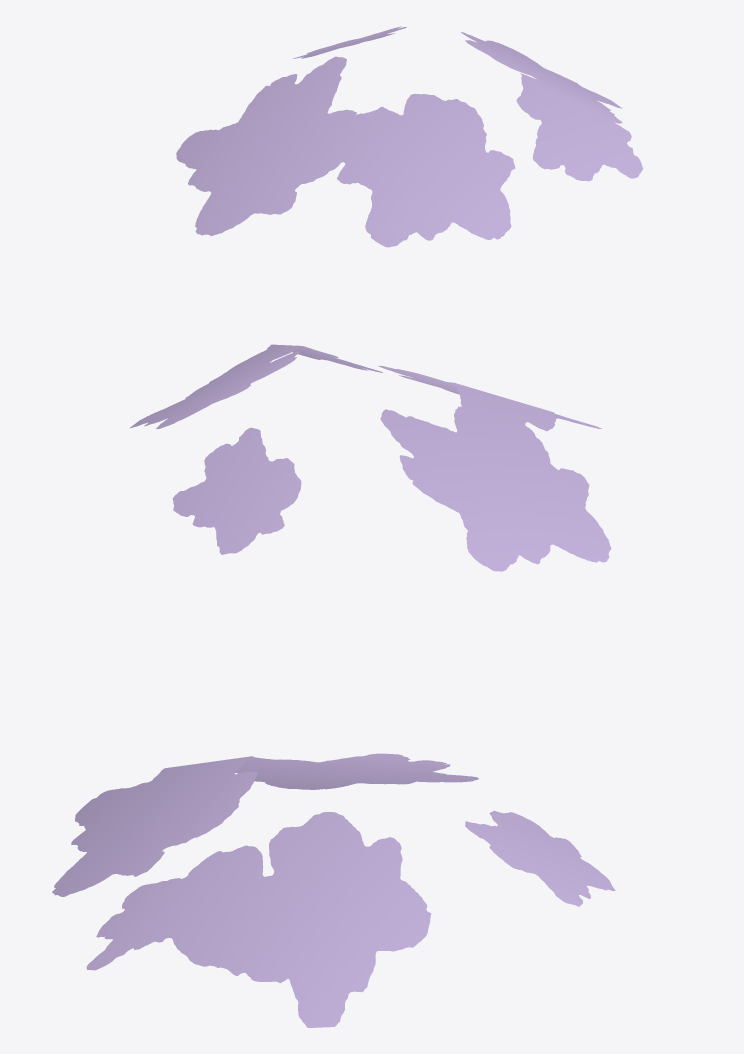
Rendered from SM_flowerpack_B_LOD2.FBX.
The picture shows the model from 3 angles, top to bottom: view 1: azimuth 30°, elevation 25°; view 2: azimuth 150°, elevation 25°; view 3: azimuth 270°, elevation 25°; orthographic projection. The views are drawn at different scales.
Parts seen in each view (by area): view 1: SM_flowerpack_B_LOD2; view 2: SM_flowerpack_B_LOD2; view 3: SM_flowerpack_B_LOD2.
Boxes of the visible parts, <box> form: SM_flowerpack_B_LOD2: <box>176,26,642,247</box>; SM_flowerpack_B_LOD2: <box>129,344,611,571</box>; SM_flowerpack_B_LOD2: <box>52,753,615,1027</box>.
Bounding box in the file's own units: 122 × 41.81 × 128.
1 material, 1 textured.
